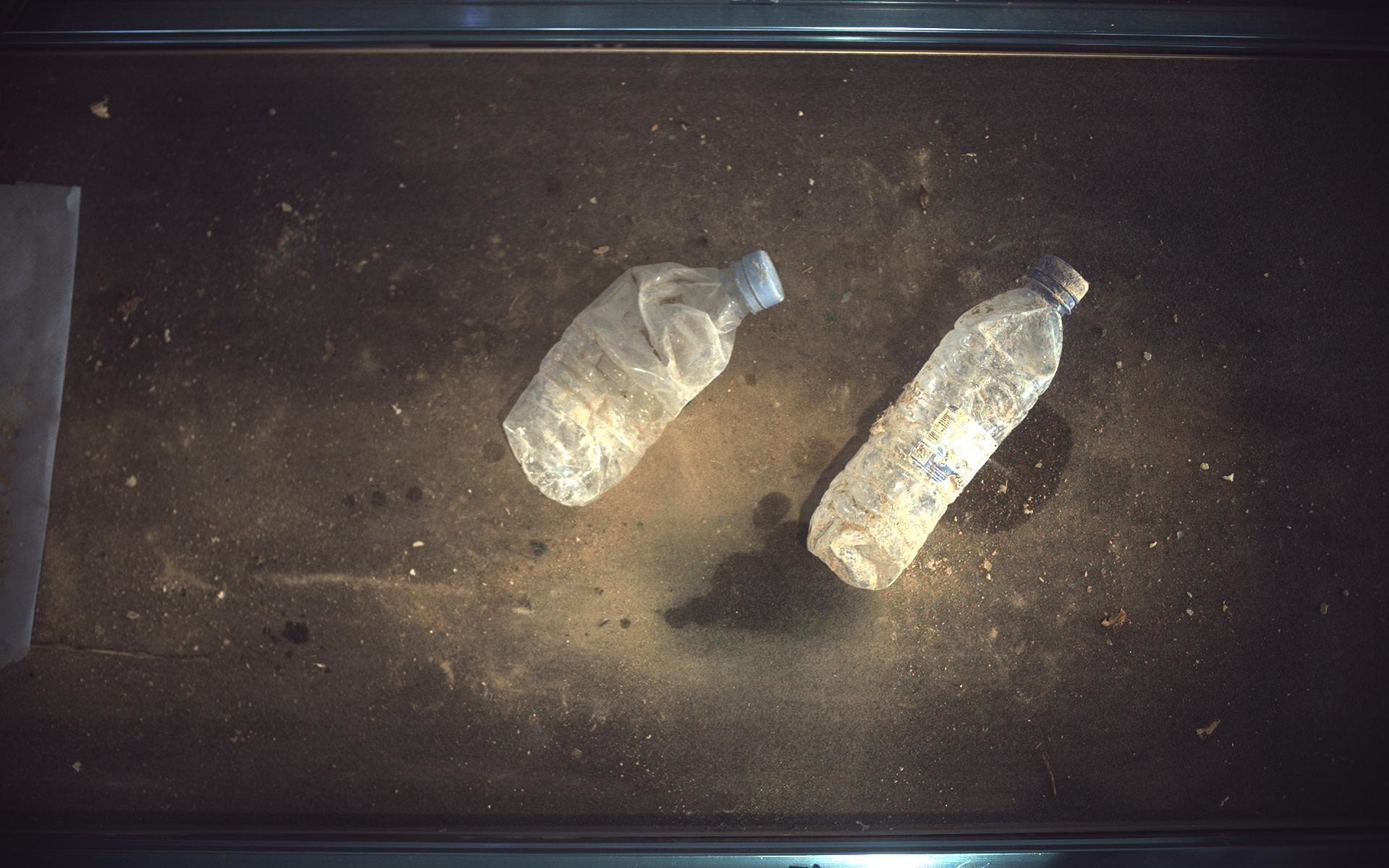general_w: (810, 255, 1091, 590), (504, 250, 786, 506)
